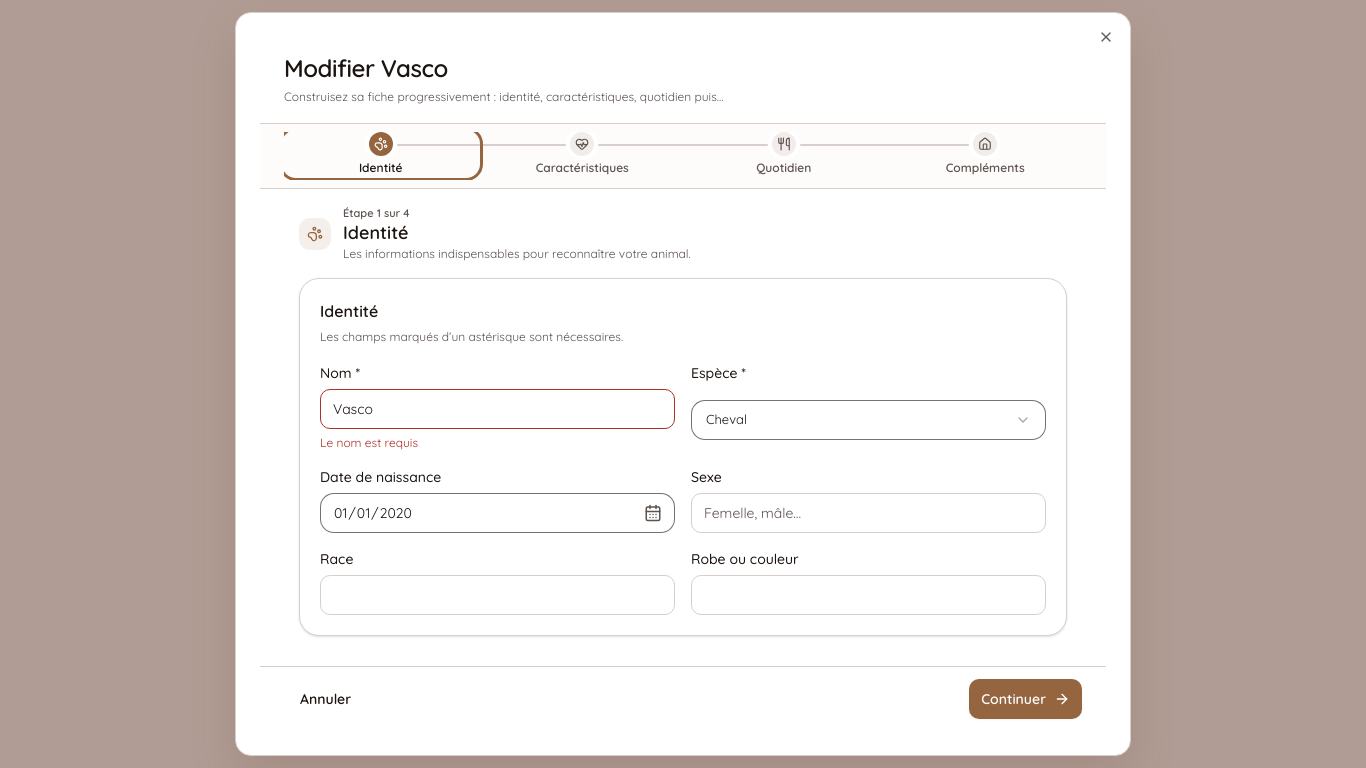
Test: AnimalFormDrawer › affiche les unités des mesures physiques
Click the button "Continuer". click: coordinates (1026, 699)
box: left=969, top=679, right=1082, bottom=719
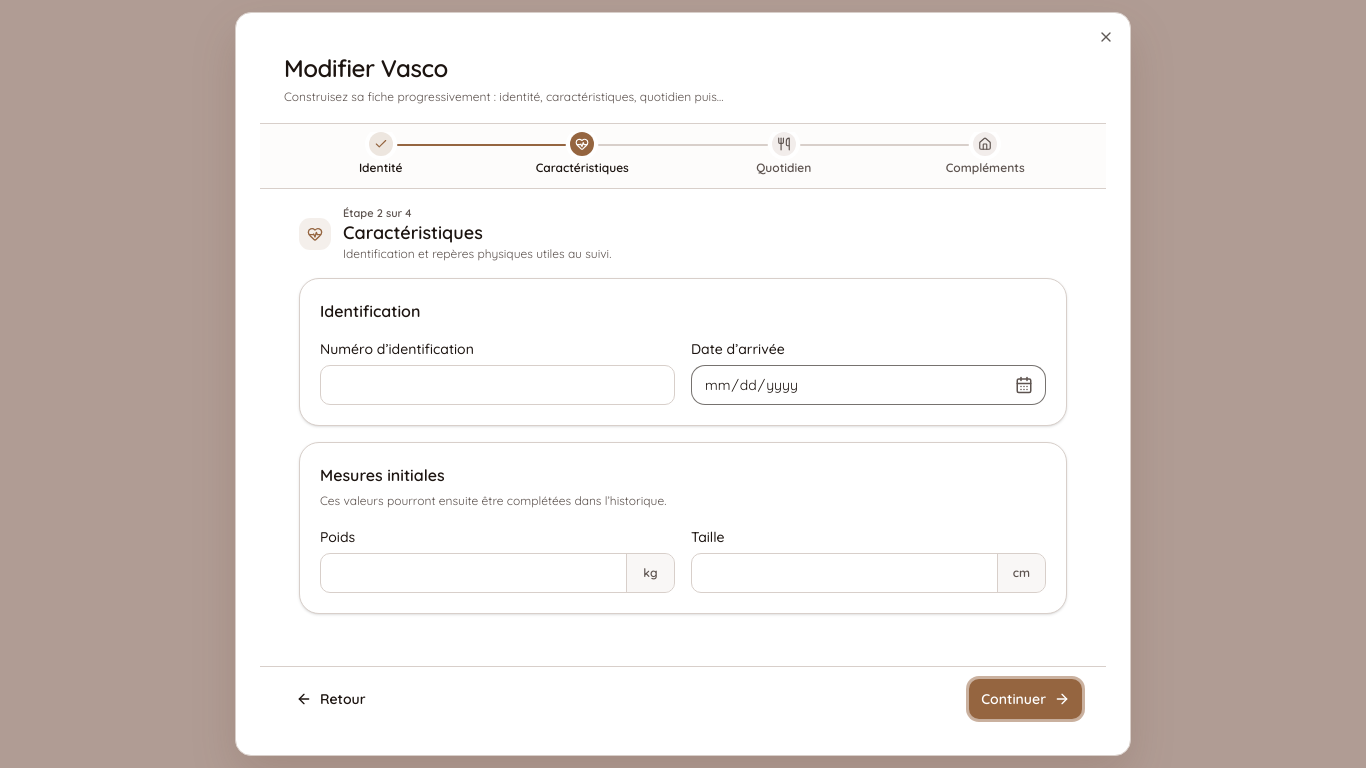
Now the text "kg" is shown, box left=626, top=554, right=674, bottom=592
Now the text "cm" is shown, box left=997, top=554, right=1045, bottom=592
